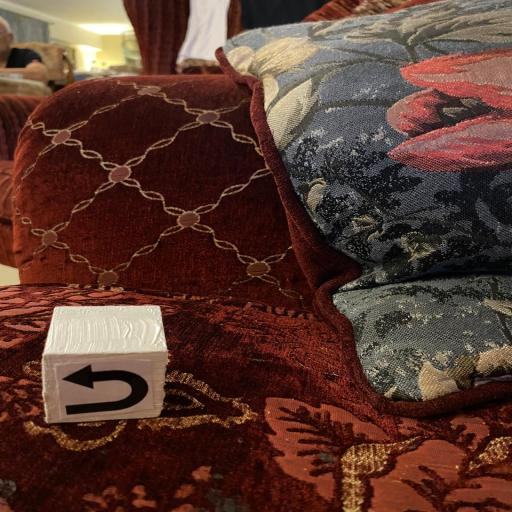Undo: (38, 304, 173, 424)
